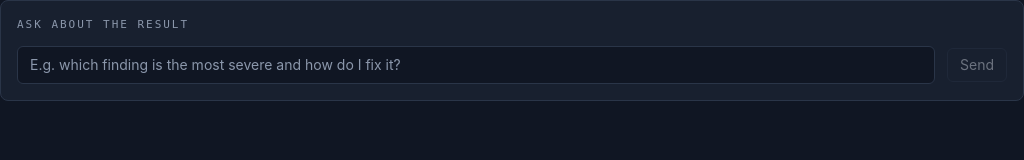
it: ChatDock › UI-03: erro da API aparece e a pergunta fica no campo
The image size is (1024, 160).
In the field named "Question about the result": (476, 64) [17,46,935,84], type "Q?"
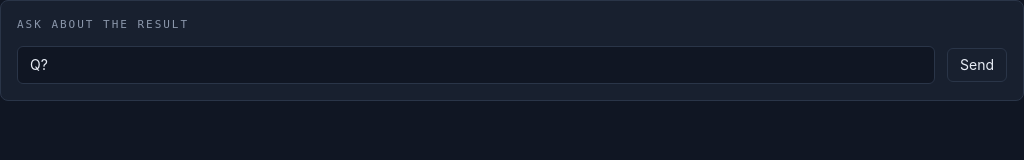
Click the button "Send": (977, 64) [947,48,1007,82]
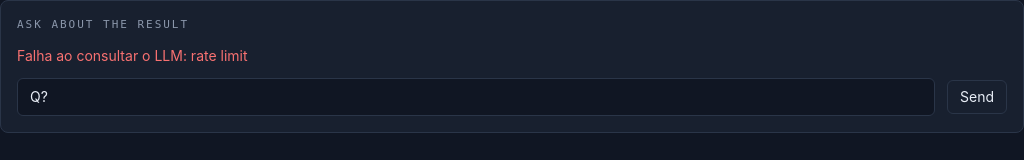
expect the field named "Question about the result" is enabled: met, box [17,78,935,116]
expect the message reads "Falha ao consultar o LLM: rate limit": met, box [17,46,248,64]
